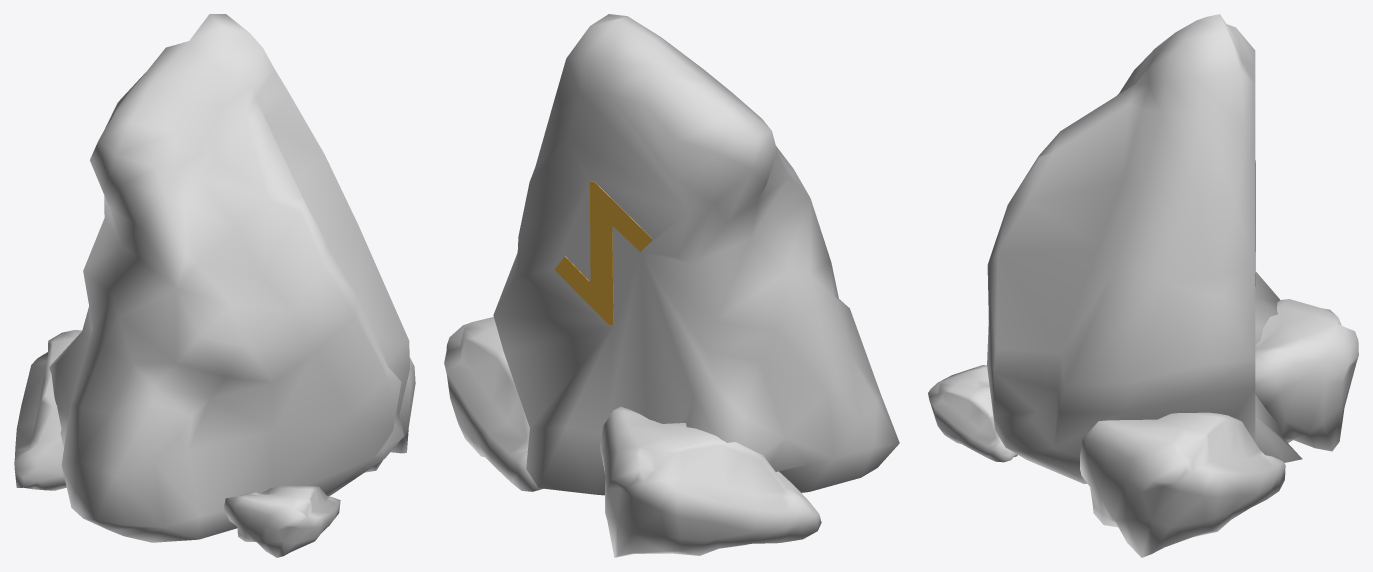
The model's file is Eihwaz.fbx.
The picture shows the model from 3 angles, left to right: view 1: azimuth 30°, elevation 25°; view 2: azimuth 150°, elevation 25°; view 3: azimuth 270°, elevation 25°; orthographic projection. The views are drawn at different scales.
Parts seen in each view (by area): view 1: uploads_files_4276670_stone_small; view 2: uploads_files_4276670_stone_small, Eihwaz; view 3: uploads_files_4276670_stone_small.
Part boxes in pixels (x1=…): uploads_files_4276670_stone_small: x1=14, y1=14, x2=415, y2=557; uploads_files_4276670_stone_small: x1=444, y1=14, x2=899, y2=557; Eihwaz: x1=554, y1=181, x2=652, y2=325; uploads_files_4276670_stone_small: x1=928, y1=14, x2=1358, y2=557.
Size of the model in its own units: 155 by 181 by 152.
